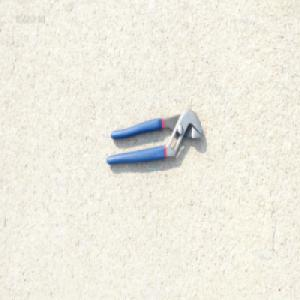Pliers: (105, 108, 203, 166)
